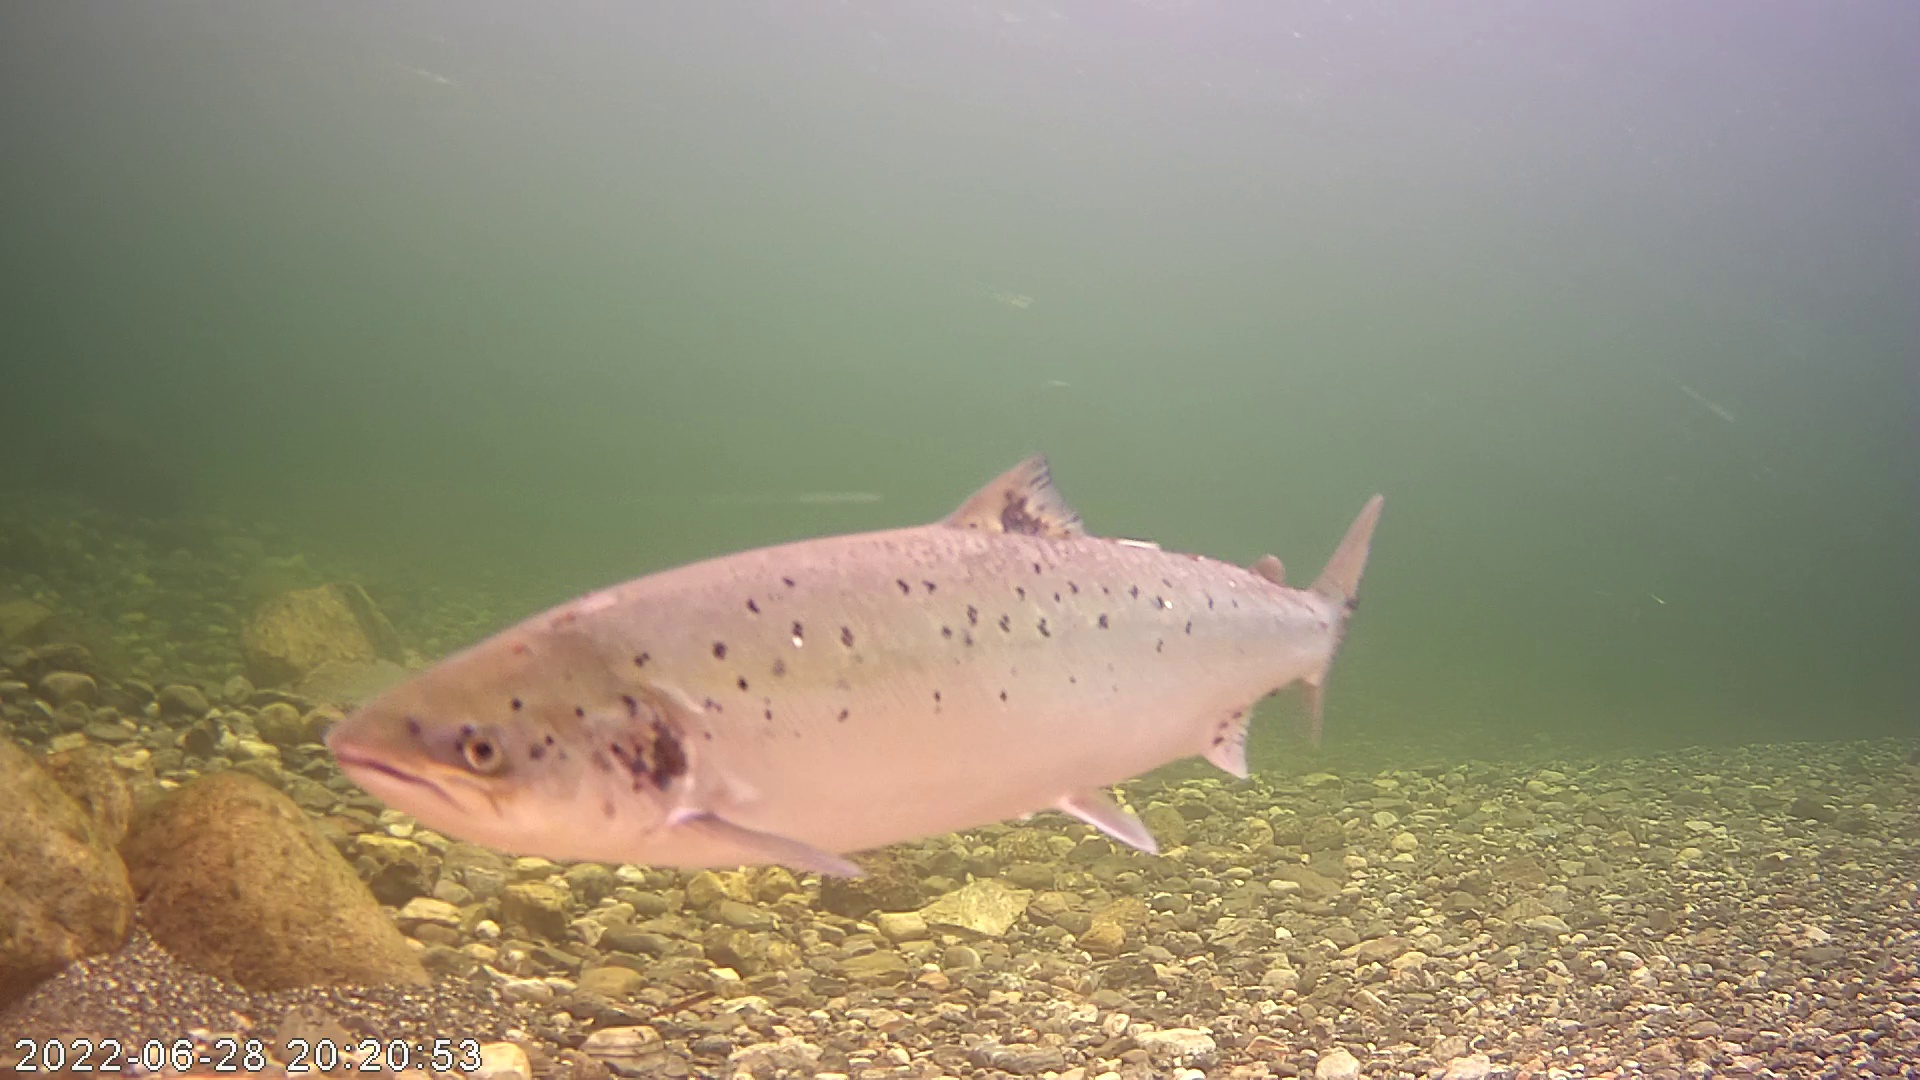salmon: (301, 402, 1371, 877)
